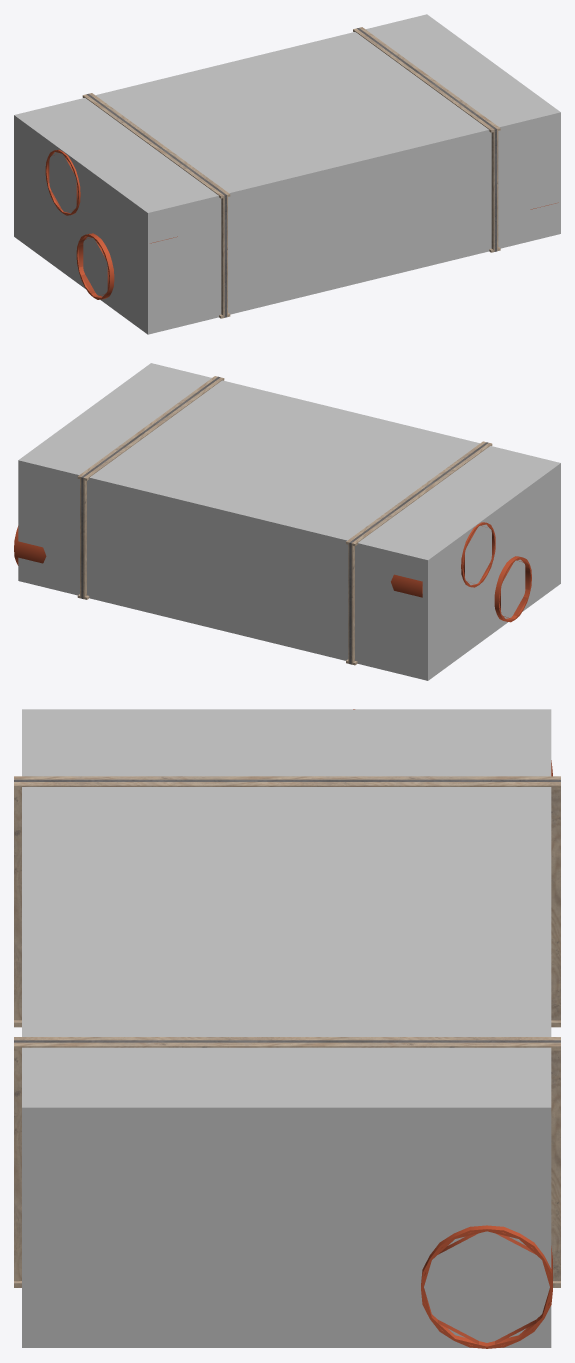
Rendered from ind_pipes_big_stack.DAE.
3 renders of one model, top to bottom at view 1: azimuth 30°, elevation 25°; view 2: azimuth 150°, elevation 25°; view 3: azimuth 270°, elevation 25°, orthographic. The views are drawn at different scales.
Visible parts, largest first — view 1: Colmesh-1, ind_pipes_big_stack300, ind_pipes_big_stack130, ind_pipes_big_stack200, ind_pipes_big_stack50; view 2: Colmesh-1, ind_pipes_big_stack300, ind_pipes_big_stack130, ind_pipes_big_stack200, ind_pipes_big_stack50; view 3: Colmesh-1, ind_pipes_big_stack300, ind_pipes_big_stack130, ind_pipes_big_stack200.
Boxes of the visible parts, x1,y1,x2,y2 form: Colmesh-1: (14,14,560,334); ind_pipes_big_stack300: (45,27,558,318); ind_pipes_big_stack130: (82,27,499,316); ind_pipes_big_stack200: (46,151,109,298); ind_pipes_big_stack50: (48,155,109,295); Colmesh-1: (18,363,560,680); ind_pipes_big_stack300: (14,376,531,665); ind_pipes_big_stack130: (77,380,499,664); ind_pipes_big_stack200: (463,523,531,620); ind_pipes_big_stack50: (463,526,529,618); Colmesh-1: (22,709,551,1347); ind_pipes_big_stack300: (14,709,560,1348); ind_pipes_big_stack130: (14,776,560,1281); ind_pipes_big_stack200: (421,1229,552,1348).
Size of the model in its own units: 389 by 222 by 108.
